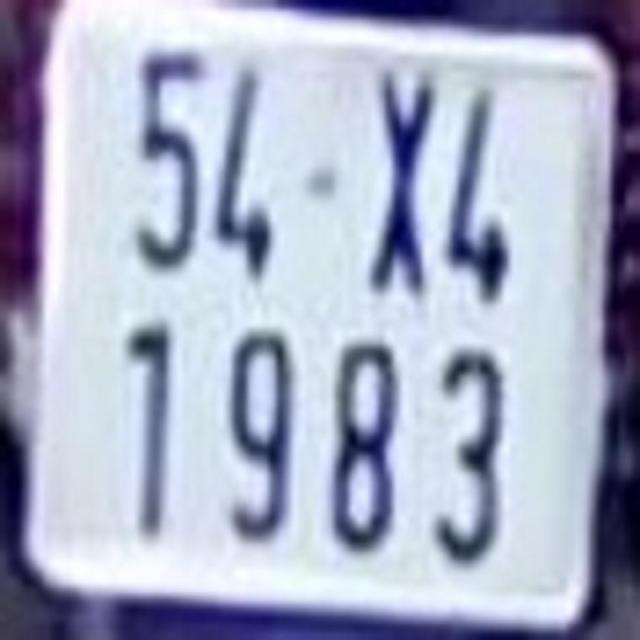1: (122, 315, 171, 535)
3: (436, 350, 511, 560)
4: (448, 84, 519, 310), (215, 64, 284, 283)
5: (136, 43, 203, 264)
8: (331, 338, 397, 552)
9: (229, 324, 292, 542)
X: (370, 64, 436, 299)
